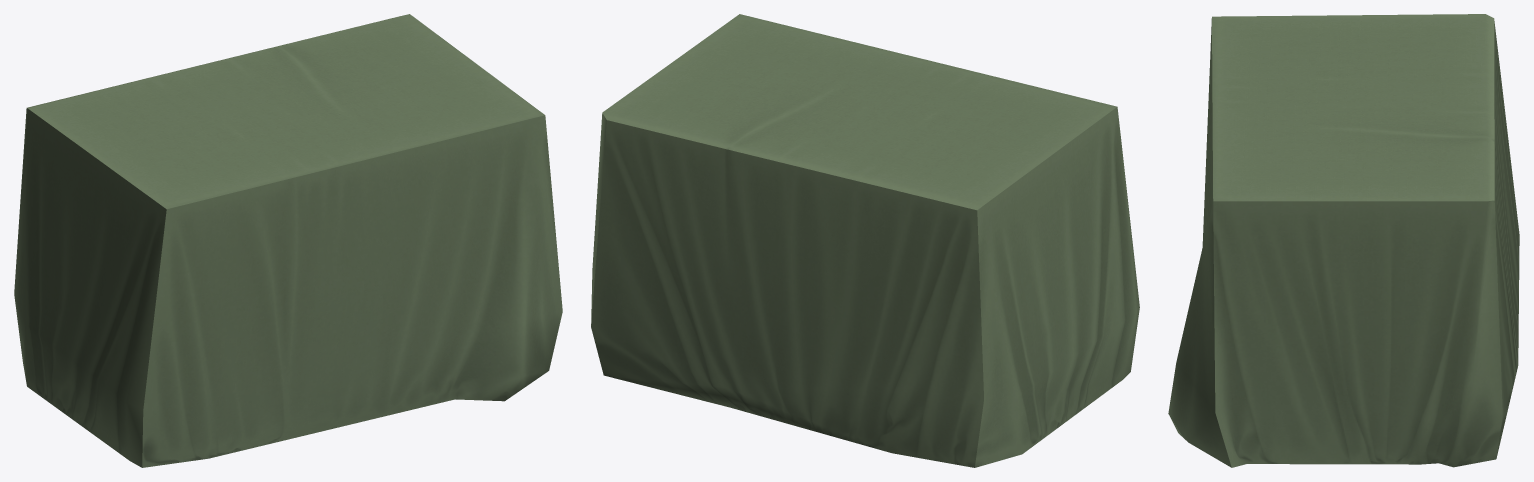
File: Pfb_Box_GRP__21.fbx
The picture shows the model from 3 angles, left to right: view 1: azimuth 30°, elevation 25°; view 2: azimuth 150°, elevation 25°; view 3: azimuth 270°, elevation 25°; orthographic projection.
Parts seen in each view (by area): view 1: MAT_Canvas_02 2; view 2: MAT_Canvas_02 2; view 3: MAT_Canvas_02 2.
Part boxes in pixels (x1,y1,x2,y2): MAT_Canvas_02 2: (14, 14, 562, 467); MAT_Canvas_02 2: (591, 14, 1139, 467); MAT_Canvas_02 2: (1168, 14, 1519, 467).
Bounding box in the file's own units: 2.65 × 1.54 × 1.88.
1 material, 1 textured.
